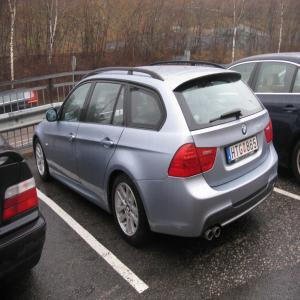Vehicle-registration-plate: (226, 137, 262, 166)
